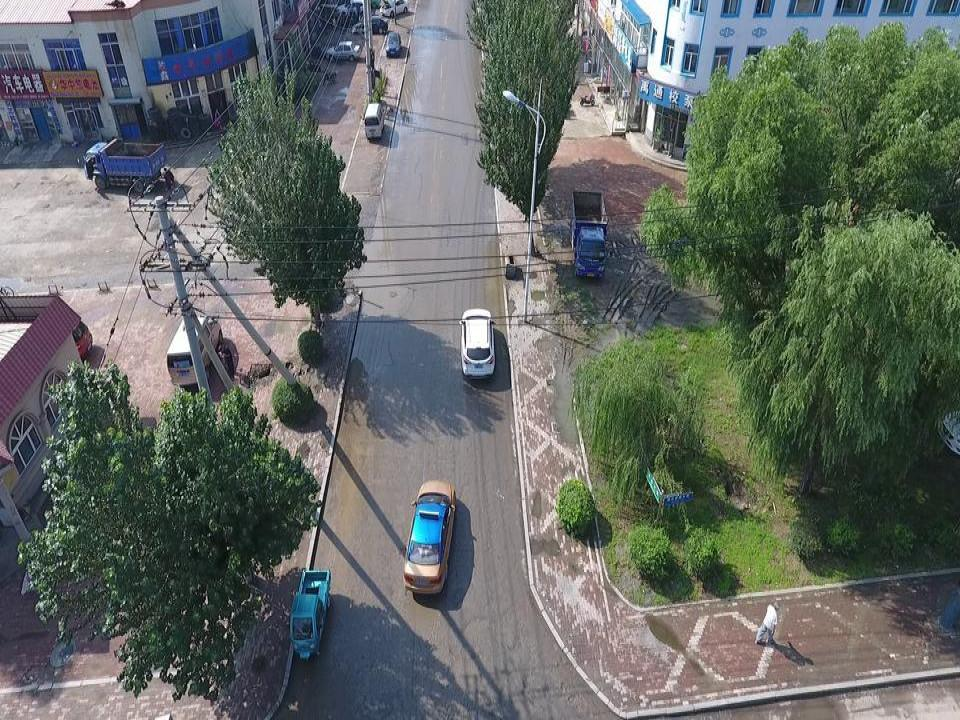car: (403, 480, 456, 593), (326, 40, 360, 61), (354, 15, 388, 33), (379, 0, 409, 19), (385, 32, 402, 56)
truck: (77, 138, 168, 194), (570, 191, 612, 277)
van: (166, 315, 222, 385), (458, 308, 496, 377), (35, 315, 93, 360), (365, 102, 386, 138), (336, 0, 364, 19)
